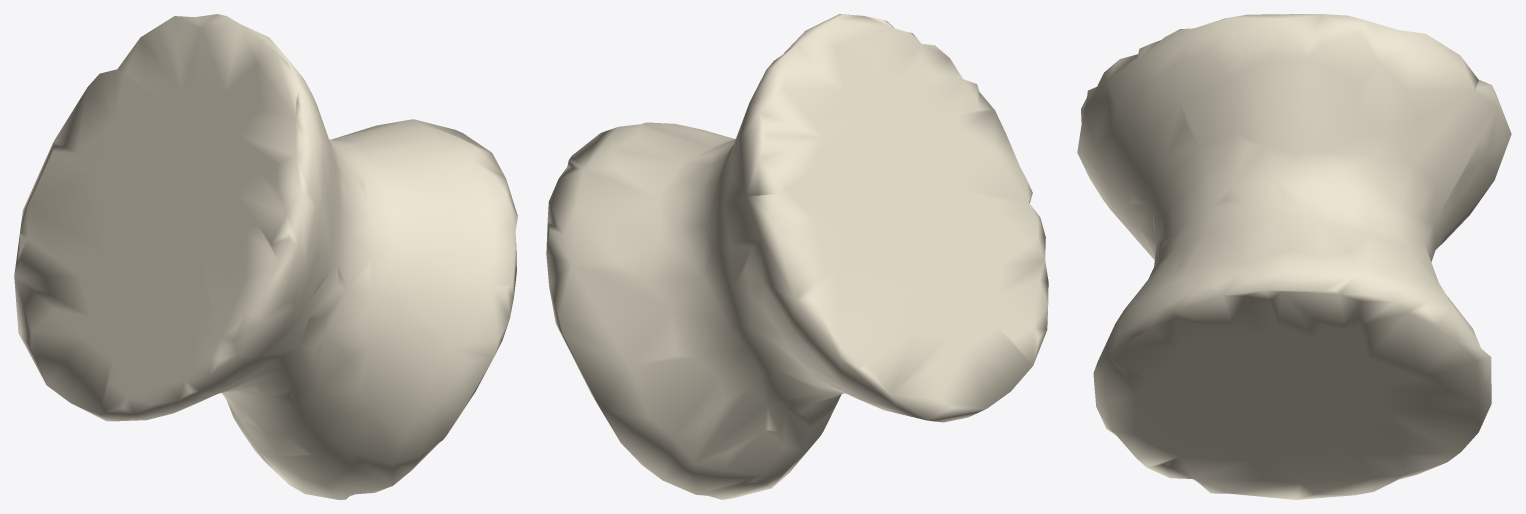
Rendered from caudal_1.glb.
The picture shows the model from 3 angles, left to right: view 1: azimuth 30°, elevation 25°; view 2: azimuth 150°, elevation 25°; view 3: azimuth 270°, elevation 25°; orthographic projection.
Visible parts, largest first — view 1: geometry_0; view 2: geometry_0; view 3: geometry_0.
Boxes of the visible parts, x1,y1,x2,y2 form: geometry_0: [14, 14, 517, 499]; geometry_0: [546, 14, 1048, 499]; geometry_0: [1077, 14, 1511, 499].
Size of the model in its own units: 0.0812 by 0.086 by 0.0724.
